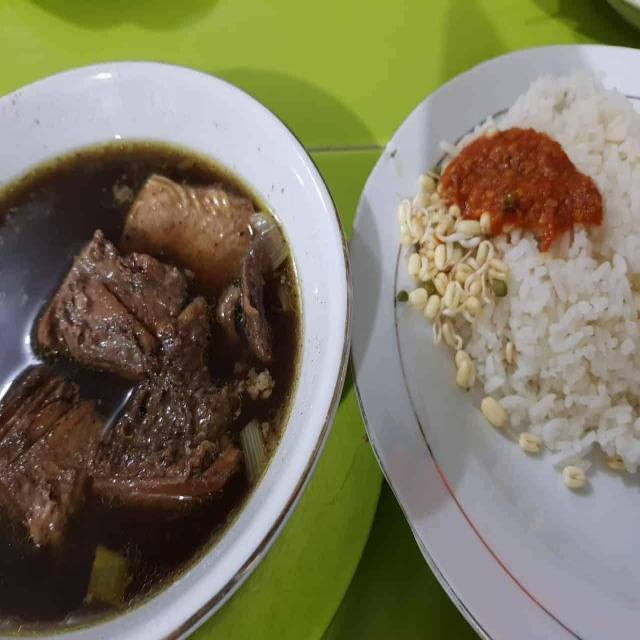Rawon: (0, 132, 302, 614)
